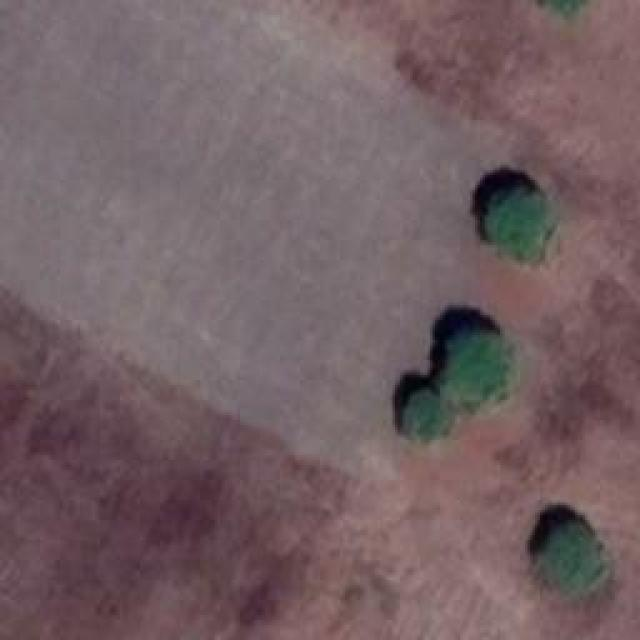Tree: (445, 333, 520, 408), (535, 518, 608, 593), (485, 185, 558, 259), (405, 391, 456, 444)
